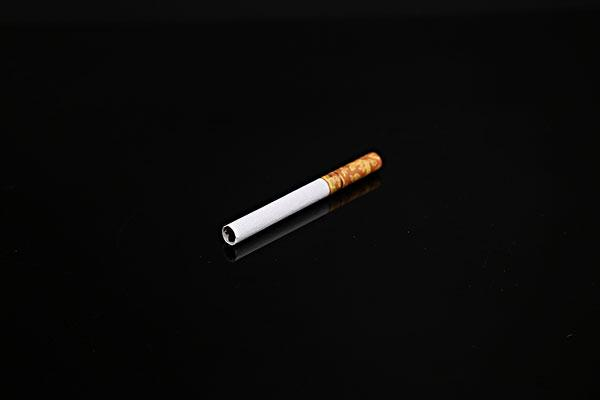smoke: (221, 153, 383, 247)
